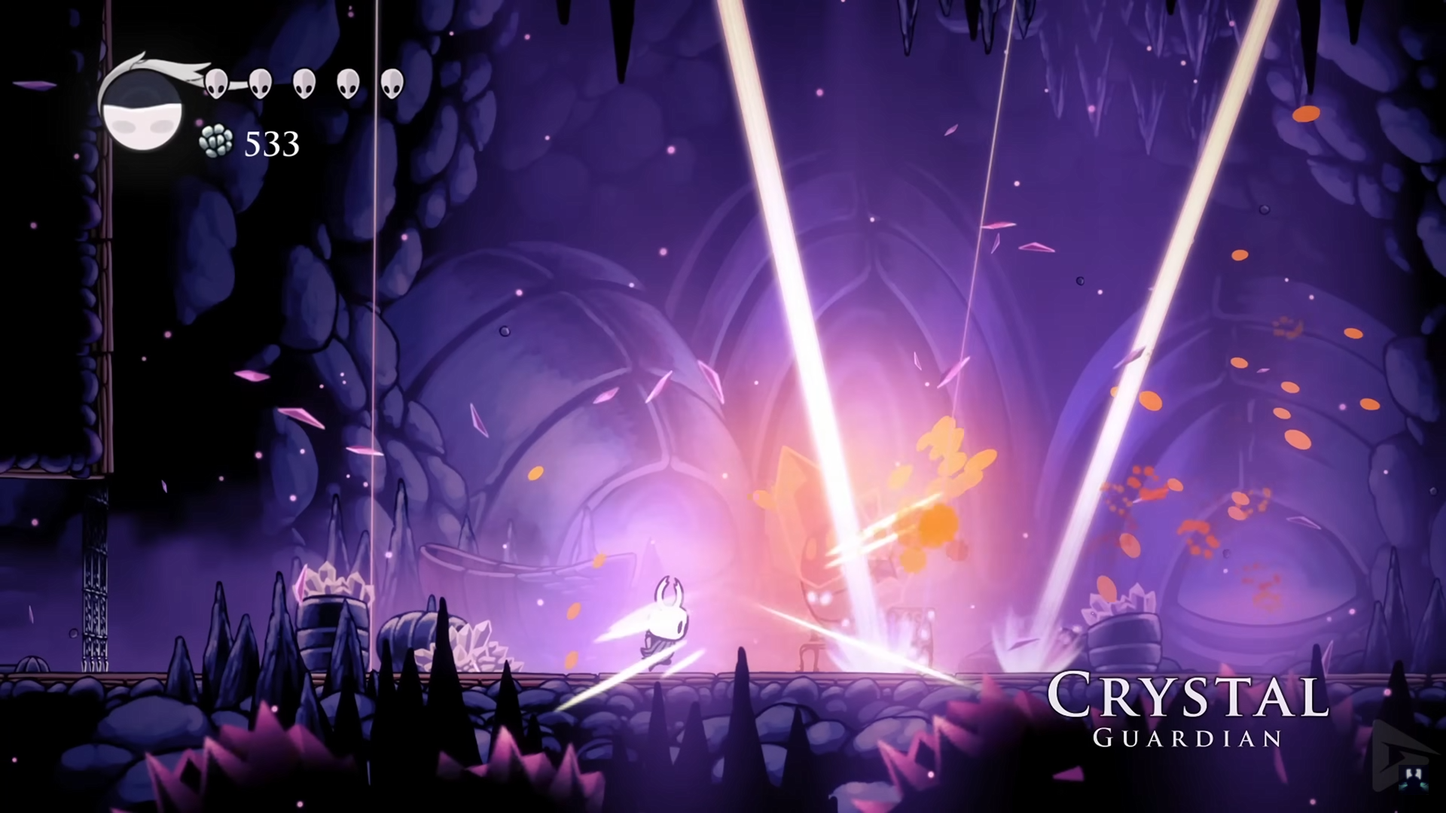HK: (633, 576, 694, 681)
